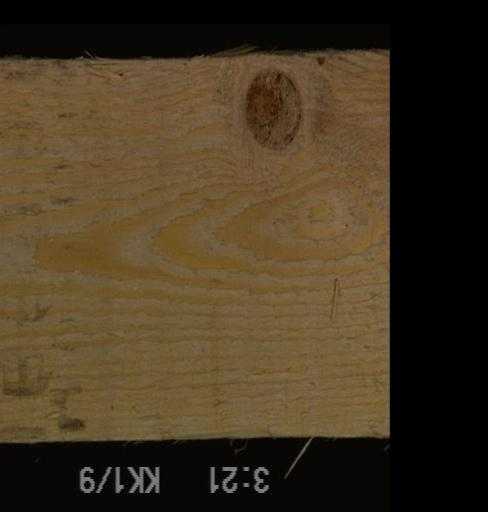sound_knot: (242, 66, 303, 151)
